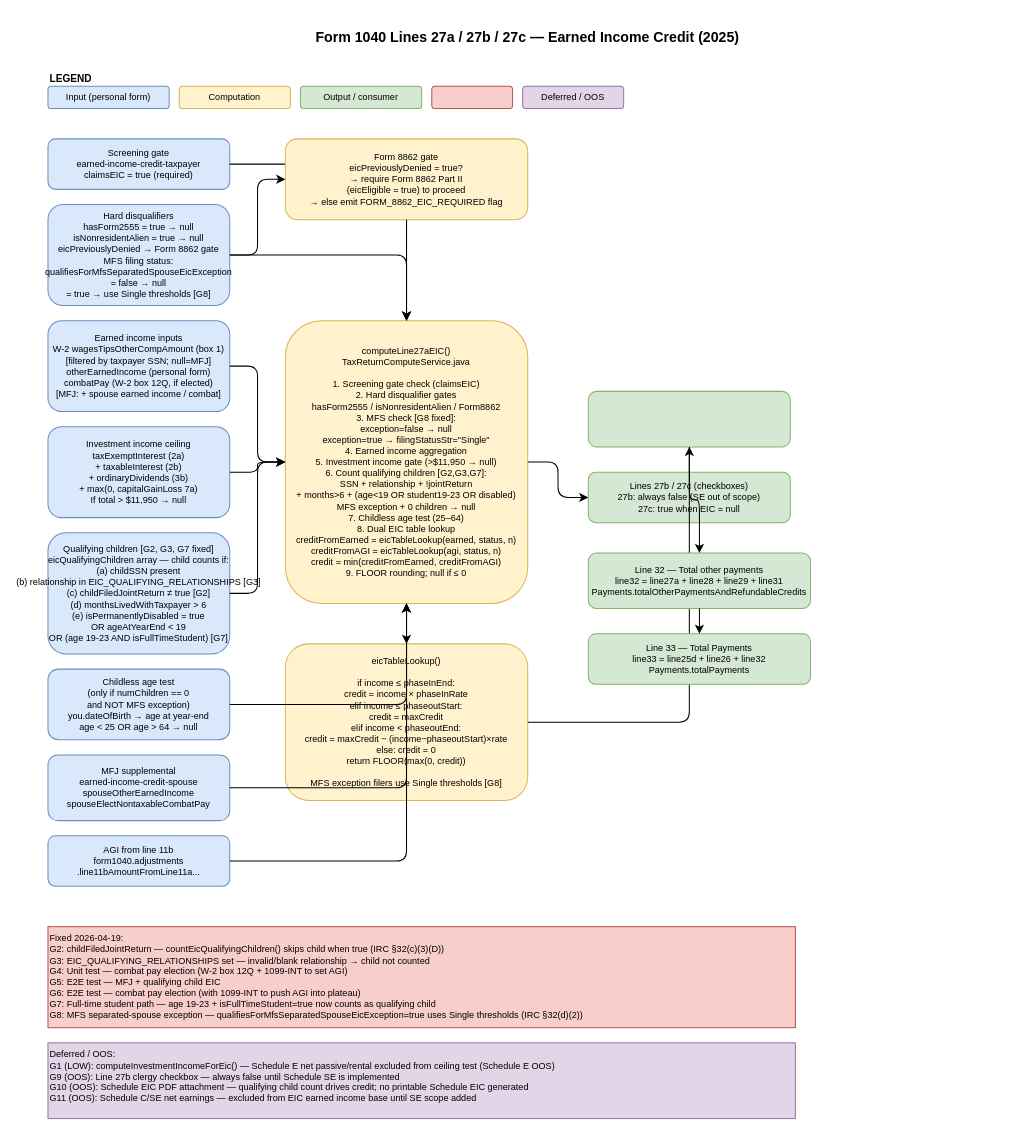
This 1025x1136 diagram has some shape labels left out. Here are the shapes that lost their labels. From the top down, the box of each, then its label:
(431, 85, 513, 109): Gap (fixed)
(587, 390, 790, 447): Line 27a — EIC Payments.earnedIncomeCredit null when disqualified or gate=false
